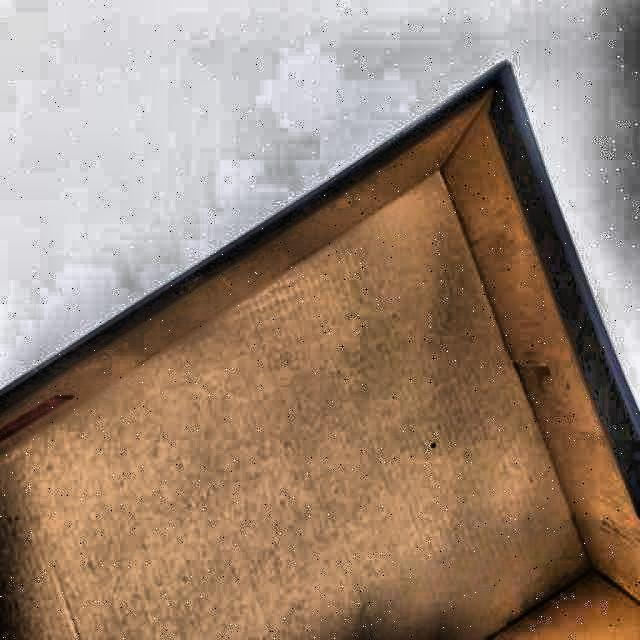cardboard: (0, 63, 640, 640)
